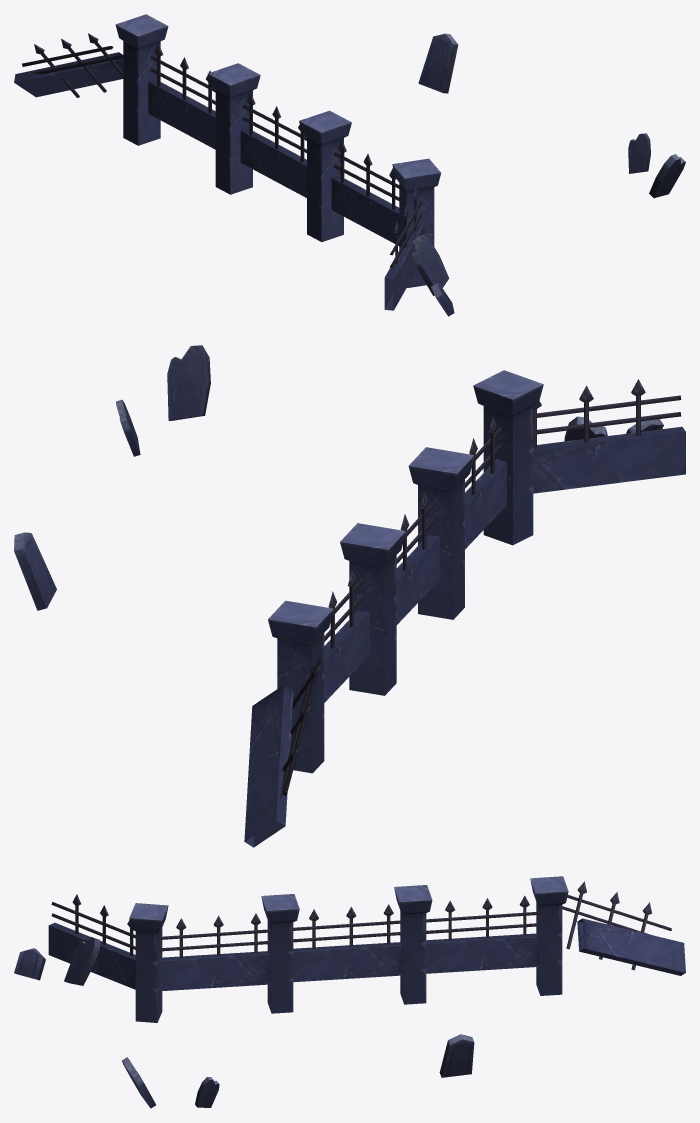
Rendered from Area13_1.fbx.
3 renders of one model, top to bottom at view 1: azimuth 30°, elevation 25°; view 2: azimuth 150°, elevation 25°; view 3: azimuth 270°, elevation 25°, orthographic. The views are drawn at different scales.
Parts seen in each view (by area): view 1: Area13_1; view 2: Area13_1; view 3: Area13_1.
Part boxes in pixels (x1,y1,x2,y2): Area13_1: [14, 14, 685, 316]; Area13_1: [14, 345, 685, 847]; Area13_1: [14, 876, 685, 1108].
Size of the model in its own units: 2185 by 631 by 3589.
